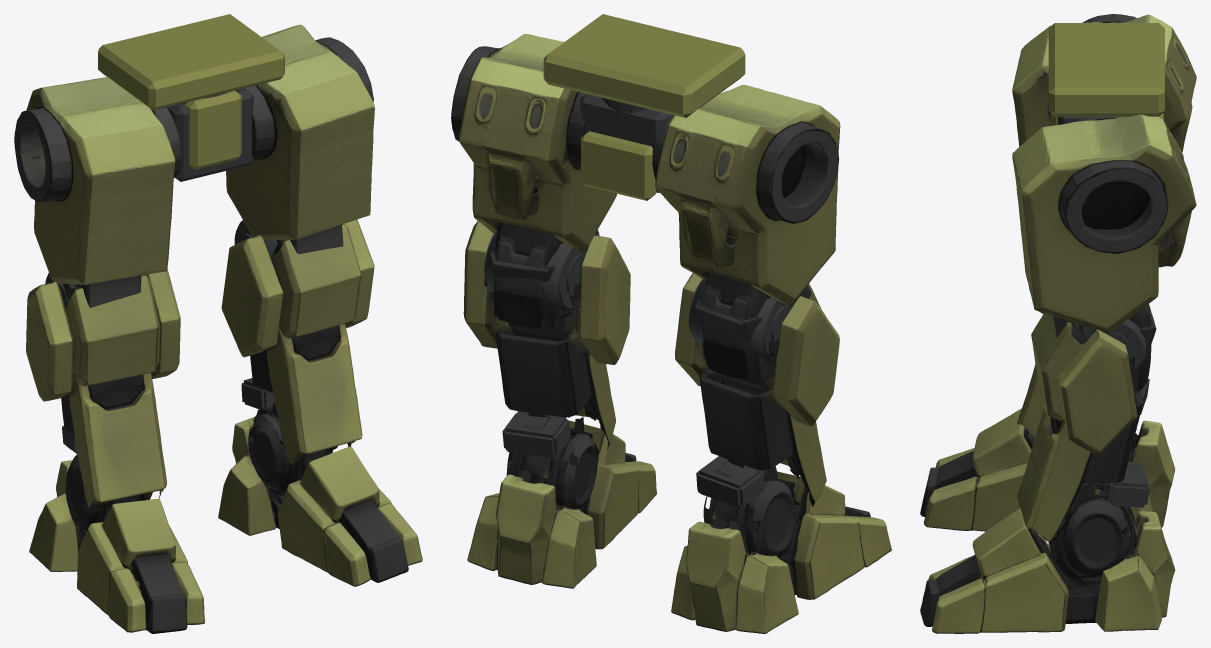
Rendered from medium_mech_legs.glb.
The picture shows the model from 3 angles, left to right: view 1: azimuth 30°, elevation 25°; view 2: azimuth 150°, elevation 25°; view 3: azimuth 270°, elevation 25°; orthographic projection. The views are drawn at different scales.
Visible parts, largest first — view 1: md_thigh_R, md_thigh_L, md_shin_R, md_shin_L, FootL, FootR, md_pelvis_belt, FootL_frame, FootR_frame, md_pelvis_crotch, md_pelvis_core, md_shin_L_frame (+4 smaller); view 2: md_thigh_R, md_thigh_L, FootR, FootL, md_shin_L, md_shin_R, md_pelvis_belt, md_thigh_R_frame, md_thigh_L_frame, md_shin_R_frame, md_shin_L_frame, FootR_frame (+7 smaller); view 3: md_thigh_L, FootL, md_shin_L, md_pelvis_belt, FootR, FootL_frame, md_thigh_R, md_thigh_L_frame, md_shin_L_frame, md_ankle_bracket_L, FootR_frame, md_knee_cyl_L (+1 smaller).
Boxes of the visible parts, x1,y1,x2,y2 form: md_thigh_R: (14,77,179,307); md_thigh_L: (226,24,374,253); md_shin_R: (26,268,180,507); md_shin_L: (221,219,374,460); FootL: (218,414,422,586); FootR: (29,454,204,632); md_pelvis_belt: (98,14,284,110); FootL_frame: (218,403,421,582); FootR_frame: (65,454,187,633); md_pelvis_crotch: (185,90,241,169); md_pelvis_core: (167,88,253,181); md_shin_L_frame: (250,224,351,462); md_thigh_R: (655,85,840,310); md_thigh_L: (459,34,616,257); FootR: (671,470,891,633); FootL: (467,420,656,588); md_shin_L: (463,221,630,442); md_shin_R: (675,273,839,501); md_pelvis_belt: (543,14,745,117); md_thigh_R_frame: (652,120,839,382); md_thigh_L_frame: (451,75,586,329); md_shin_R_frame: (695,297,815,506); md_shin_L_frame: (484,230,609,448); FootR_frame: (672,466,887,625); md_thigh_L: (1012,114,1196,336); FootL: (920,483,1175,633); md_shin_L: (1017,304,1156,541); md_pelvis_belt: (1048,23,1164,116); FootR: (920,408,1175,534); FootL_frame: (924,483,1138,633); md_thigh_R: (1012,14,1196,152); md_thigh_L_frame: (1056,164,1174,393); md_shin_L_frame: (1048,304,1155,545); md_ankle_bracket_L: (1102,461,1149,507); FootR_frame: (920,429,1137,516); md_knee_cyl_L: (1082,319,1145,373).
Size of the model in its own units: 5.99 by 8.76 by 4.28.
Materials: 10 (8 with a texture image).
